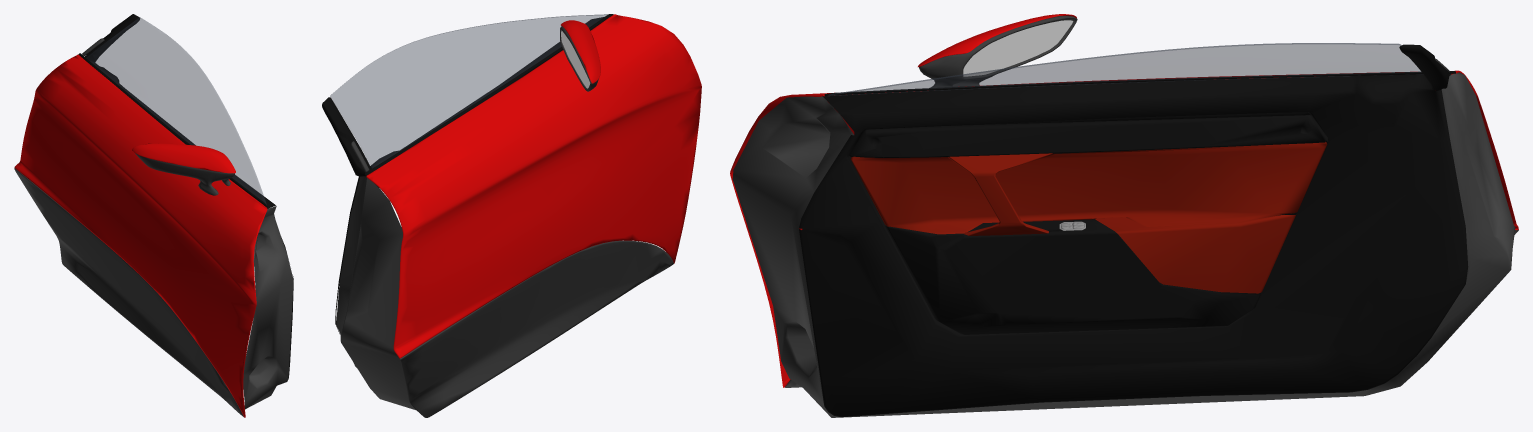
The picture shows the model from 3 angles, left to right: view 1: azimuth 30°, elevation 25°; view 2: azimuth 150°, elevation 25°; view 3: azimuth 270°, elevation 25°; orthographic projection. The views are drawn at different scales.
Parts seen in each view (by area): view 1: BodyDoorRColor1, BodyDoorRWindow, BodyDoorRColor2, InteriorDoorR01, BodyDoorRHandle01; view 2: BodyDoorRColor1, BodyDoorRColor2, BodyDoorRWindow, InteriorDoorR01, BodyDoorRHandle01, BodyDoorRMirror; view 3: InteriorDoorR01, InteriorDoorR03, BodyDoorRWindow, BodyDoorRColor1, BodyDoorRHandle01, BodyDoorRMirror, BodyDoorRColor2.
Part boxes in pixels (<box>): BodyDoorRColor1: <box>14,54,267,417</box>; BodyDoorRWindow: <box>86,17,266,204</box>; BodyDoorRColor2: <box>14,38,243,416</box>; InteriorDoorR01: <box>90,61,293,409</box>; BodyDoorRHandle01: <box>78,14,267,207</box>; BodyDoorRColor1: <box>366,14,701,358</box>; BodyDoorRColor2: <box>351,26,673,417</box>; BodyDoorRWindow: <box>330,14,607,168</box>; InteriorDoorR01: <box>335,17,603,409</box>; BodyDoorRHandle01: <box>322,14,613,176</box>; BodyDoorRMirror: <box>561,30,590,88</box>; InteriorDoorR01: <box>732,72,1515,417</box>; InteriorDoorR03: <box>850,142,1327,293</box>; BodyDoorRWindow: <box>828,43,1421,95</box>; BodyDoorRColor1: <box>730,14,1518,387</box>; BodyDoorRHandle01: <box>824,44,1455,95</box>; BodyDoorRMirror: <box>963,20,1073,76</box>; BodyDoorRColor2: <box>785,16,1518,387</box>.
Size of the model in its own units: 0.4344 by 0.9594 by 1.67.
